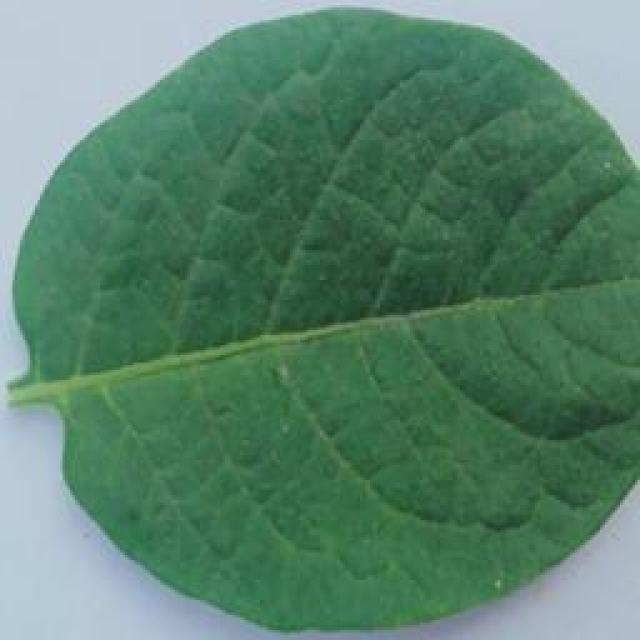Potato_Healthy: (3, 14, 633, 638)
